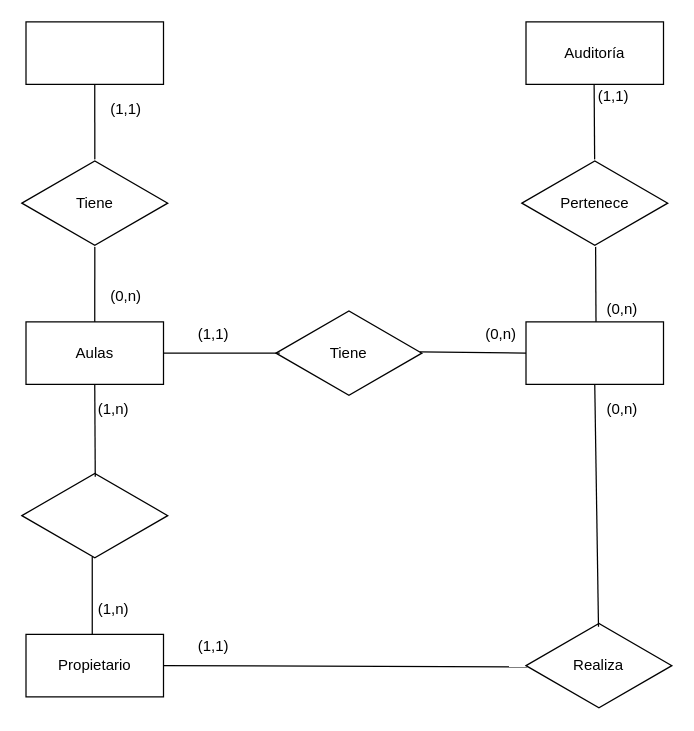
This 694x731 diagram has some shape labels left out. Here are the shapes that lost their labels. From the top down, the centre of each, then its label:
At point 94,52: "Edificio".
At point 594,352: "Reservas".
At point 94,515: "Maneja".
